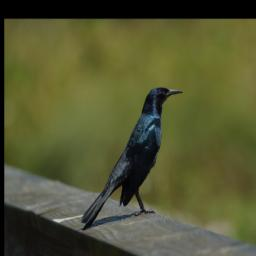Crow: (78, 85, 183, 230)
